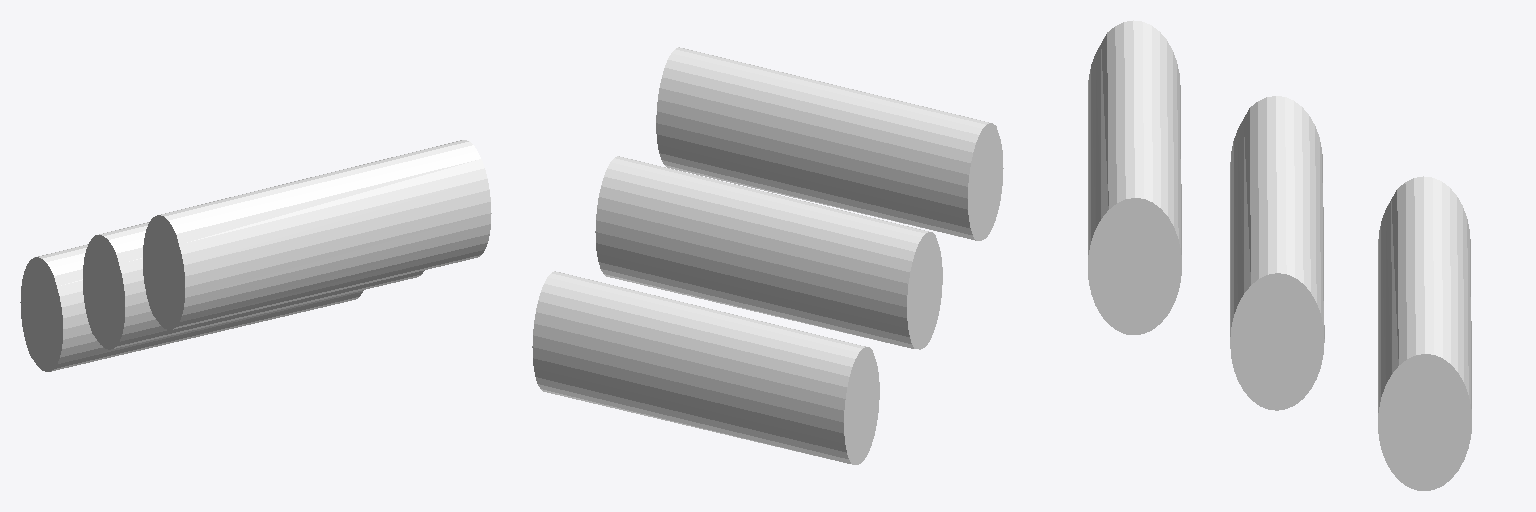
robot.urdf — cylinder:
<?xml version="0.0" ?>
<robot name="cylinder">
    <link name="cylinder1">
        <visual>
            <origin xyz="0 0 0" rpy="0 0 -1.57" />
            <geometry>
                <mesh filename="package://scene/meshes/cylinder1.stl" scale="0.8 0.8 0.8"/>
            </geometry>
            <material name="red">
                <color rgba="1.0 1.0 1.0 0.4"/>
            </material>
        </visual>

        <collision>
            <origin xyz="0 0 0" rpy="0 0 -1.57"/>
            <geometry>
                <mesh filename="package://scene/meshes/cylinder1.stl" scale="0.8 0.8 0.8"/>
            </geometry>
        </collision>
    </link>

    <link name="cylinder2">
        <visual>
            <origin xyz="0 0 0" rpy="0 0 -1.57" />
            <geometry>
                <mesh filename="package://scene/meshes/cylinder2.stl" scale="0.8 0.8 0.8"/>
            </geometry>
            <material name="red">
                <color rgba="1.0 1.0 1.0 0.4"/>
            </material>
        </visual>

        <collision>
            <origin xyz="0 0 0" rpy="0 0 -1.57"/>
            <geometry>
                <mesh filename="package://scene/meshes/cylinder2.stl" scale="0.8 0.8 0.8"/>
            </geometry>
        </collision>
    </link>

    <link name="cylinder3">
        <visual>
            <origin xyz="0 0 0" rpy="0 0 -1.57" />
            <geometry>
                <mesh filename="package://scene/meshes/cylinder3.stl" scale="0.8 0.8 0.8"/>
            </geometry>
            <material name="red">
                <color rgba="1.0 1.0 1.0 0.4"/>
            </material>
        </visual>

        <collision>
            <origin xyz="0 0 0" rpy="0 0 -1.57"/>
            <geometry>
                <mesh filename="package://scene/meshes/cylinder3.stl" scale="0.8 0.8 0.8"/>
            </geometry>
        </collision>
    </link>

    <joint name="joint_12" type="fixed">
        <origin rpy="0 0 0" xyz="0 0 0"/>
        <parent link="cylinder1"/>
        <child link="cylinder2"/>
    </joint>

    <joint name="joint_23" type="fixed">
        <origin rpy="0 0 0" xyz="0 0 0"/>
        <parent link="cylinder2"/>
        <child link="cylinder3"/>
    </joint>
</robot>

--- Render facts (derived) ---
3 views of the same robot in one strip: view 1: azimuth 30°, elevation 25°; view 2: azimuth 150°, elevation 25°; view 3: azimuth 270°, elevation 25° (orthographic).
Robot: cylinder — 3 links, 2 joints (2 fixed); root link cylinder1; default pose: every joint at zero.
Links seen in each view (by area): view 1: cylinder3, cylinder1, cylinder2; view 2: cylinder1, cylinder2, cylinder3; view 3: cylinder2, cylinder1, cylinder3.
Link boxes in pixels (<box>): cylinder3: <box>143,140,491,329</box>; cylinder1: <box>20,244,363,371</box>; cylinder2: <box>83,222,424,349</box>; cylinder1: <box>532,271,879,464</box>; cylinder2: <box>595,156,942,349</box>; cylinder3: <box>656,47,1003,240</box>; cylinder2: <box>1230,96,1324,410</box>; cylinder1: <box>1378,176,1471,490</box>; cylinder3: <box>1088,20,1181,334</box>.
Size in the robot's own frame: 0.8075 by 0.7294 by 0.6138 metres.
3 mesh visuals loaded from 3 distinct referenced files (3 binary STL).